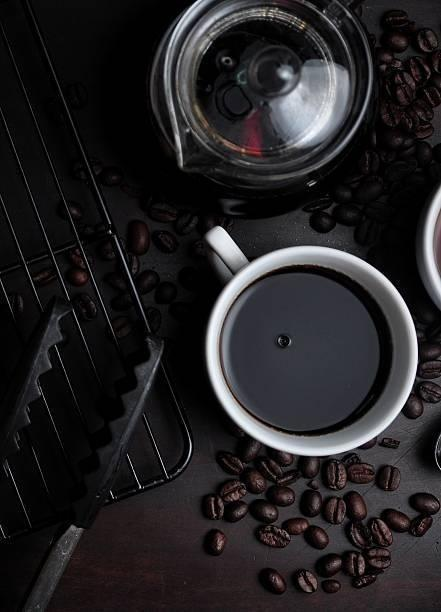cup-handle: (199, 223, 421, 462)
